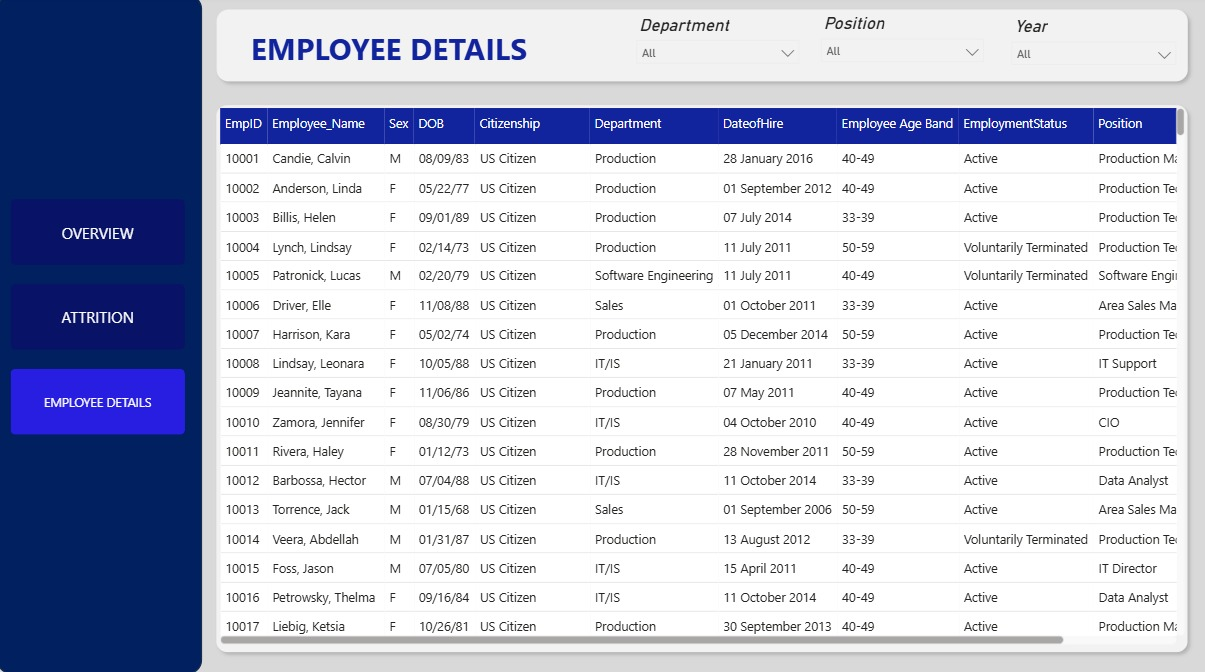

What the dashboard file says about the page in this screenshot:
{"tool":"powerbi","page":{"name":"EMPLOYEE DETAILS","canvas":[1280,720],"ordinal":2},"visuals":[{"type":"textbox","box":[264,28.6,326.1,52.5],"z":0},{"type":"tableEx","fields":{"Values":["HRDataset.EmpID","HRDataset.Employee_Name","HRDataset.Sex","HRDataset.DOB","HRDataset.Citizenship","HRDataset.Department","HRDataset.DateofHire","HRDataset.Employee Age Band","HRDataset.EmploymentStatus","HRDataset.Position","_measures.Avg Salary"]},"box":[230.6,114.5,1033.9,579],"z":1000},{"type":"slicer","fields":{"Values":["Date Table.Year"]},"box":[1065.6,17.7,194.4,84.8],"z":2000},{"type":"slicer","fields":{"Values":["HRDataset.Department"]},"box":[668,15.9,192.6,83.1],"z":3000},{"type":"slicer","fields":{"Values":["HRDataset.Position"]},"box":[864.1,14.1,192.6,84.8],"z":4000},{"type":"pageNavigator","box":[14.1,215.6,185.6,252.7],"z":5000}]}

Visuals, with their boxes on the page's 1280x720 design canvas (x1, y1, x2, y2). These are canvas units, not pixel positions in the 1205x672 screenshot, which may show the page scaled, cropped or inside an application window:
textbox: Rect(264, 29, 590, 81)
tableEx - HRDataset.EmpID x HRDataset.Employee_Name: Rect(231, 114, 1264, 694)
slicer - Date Table.Year: Rect(1066, 18, 1260, 102)
slicer - HRDataset.Department: Rect(668, 16, 861, 99)
slicer - HRDataset.Position: Rect(864, 14, 1057, 99)
pageNavigator: Rect(14, 216, 200, 468)
